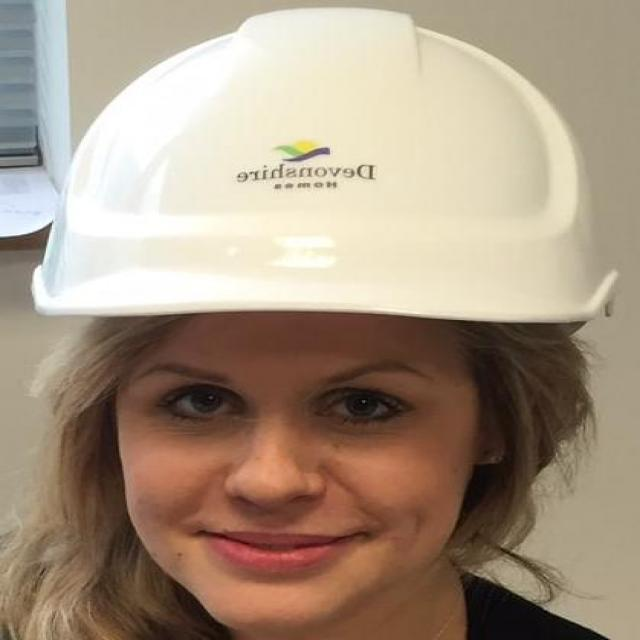safety_helmet: (33, 6, 623, 344)
